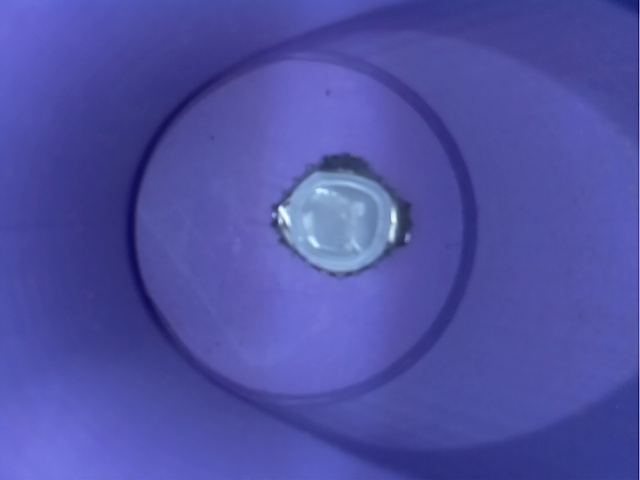capsule: (245, 147, 429, 279)
